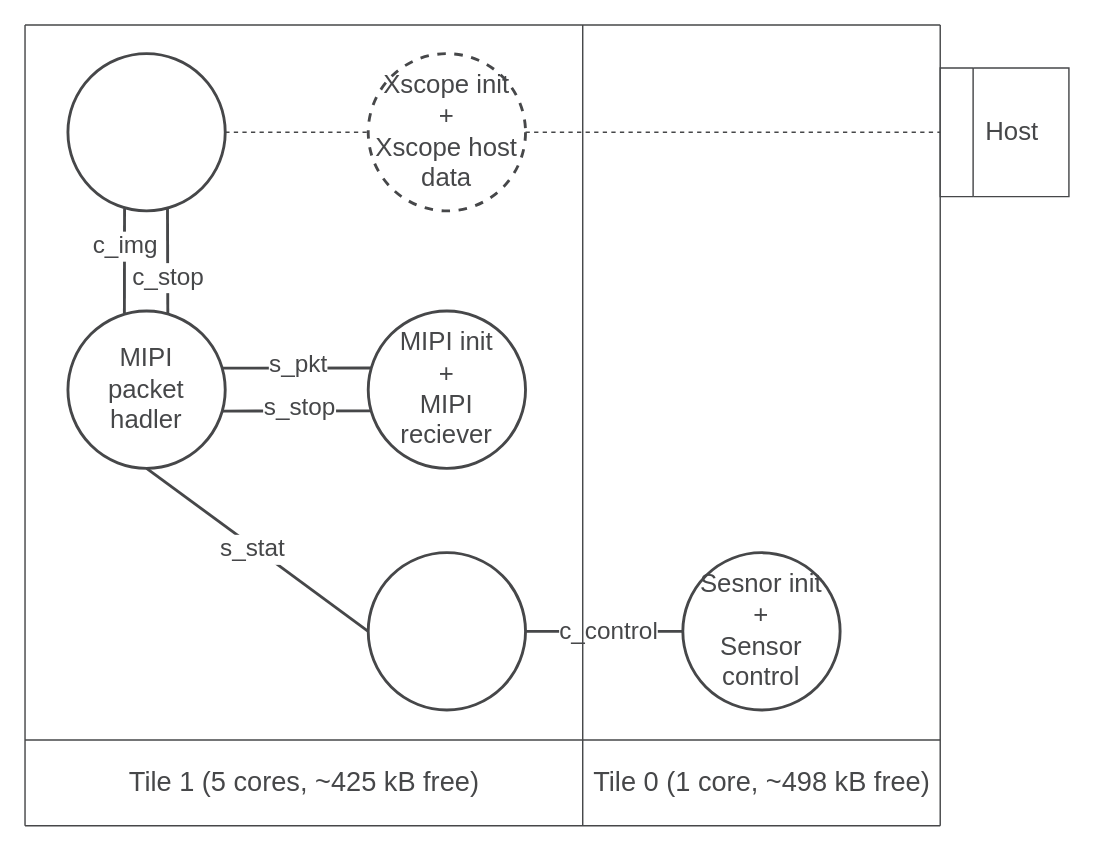
Some shapes in this 1094 by 852 pixel diagram are drawn without their labels. Here are the shapes that lost their labels. From the top down, the centre of each, then its label:
At [146,131]: "User application".
At [446,631]: "ISP pipeline".
